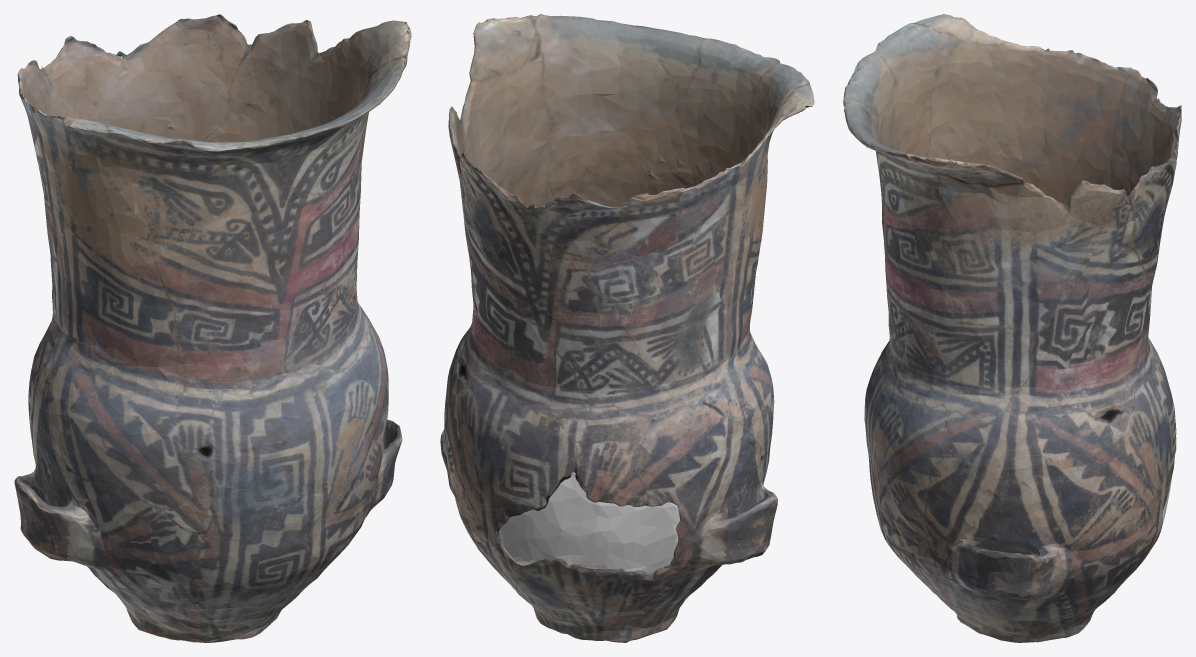
3 views of the same model, side by side, from view 1: azimuth 30°, elevation 25°; view 2: azimuth 150°, elevation 25°; view 3: azimuth 270°, elevation 25° (orthographic). The views are drawn at different scales.
Visible parts, largest first — view 1: Cube; view 2: Cube; view 3: Cube.
Part boxes in pixels (left/top/right/bottom): Cube: left=14, top=14, right=411, bottom=642; Cube: left=440, top=14, right=814, bottom=642; Cube: left=843, top=14, right=1181, bottom=642.
Bounding box in the file's own units: 2.3 × 3.48 × 2.02.
Materials: 2 (1 with a texture image).
